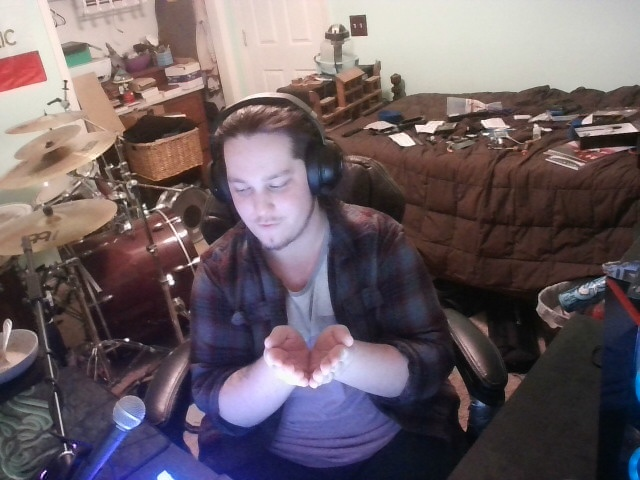book: (260, 315, 365, 400)
